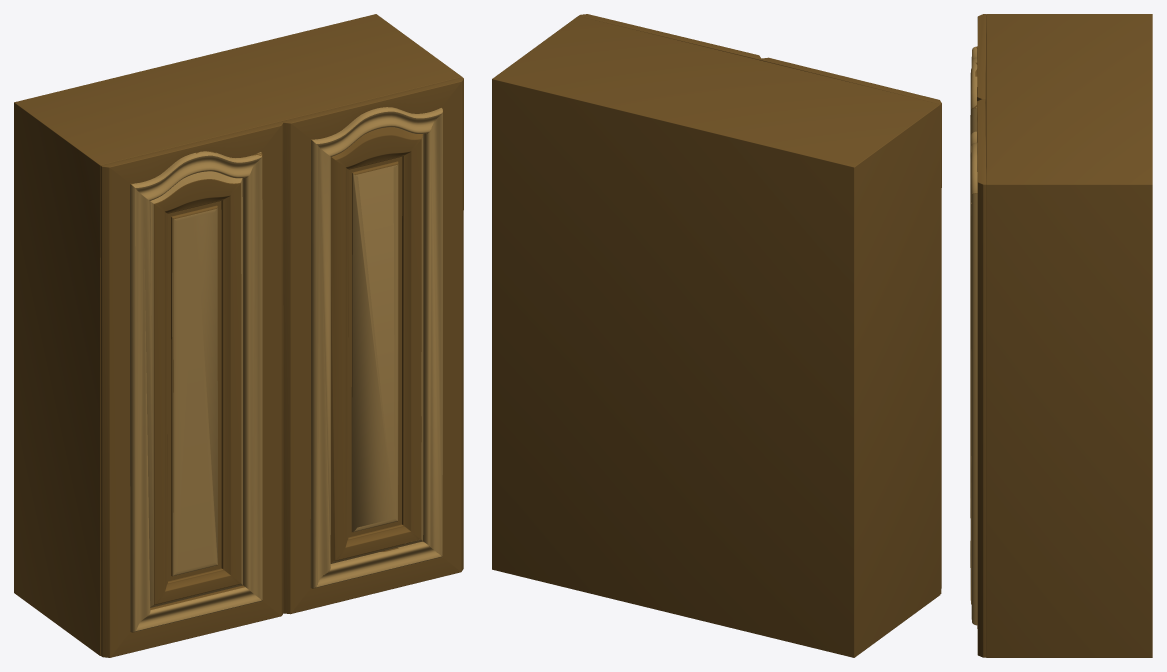
The model's file is Cupboard.fbx.
3 views of the same model, side by side, from view 1: azimuth 30°, elevation 25°; view 2: azimuth 150°, elevation 25°; view 3: azimuth 270°, elevation 25° (orthographic). The views are drawn at different scales.
Visible parts, largest first — view 1: closet-closed; view 2: closet-closed; view 3: closet-closed.
Boxes of the visible parts, x1,y1,x2,y2 form: closet-closed: (14,14,463,657); closet-closed: (492,14,941,657); closet-closed: (970,14,1152,657).
Size of the model in its own units: 1531 by 1982 by 691.
